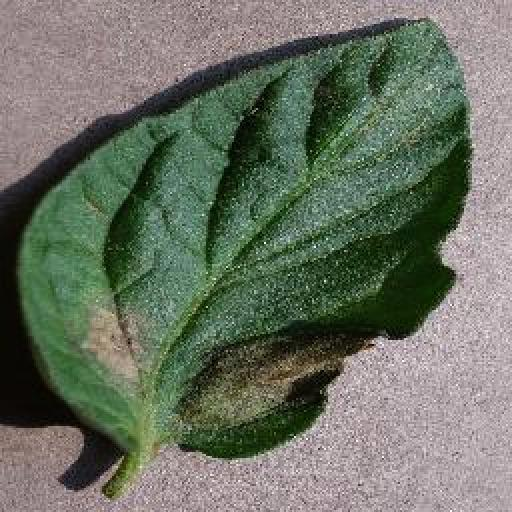disease_tomato: (20, 13, 470, 463)
